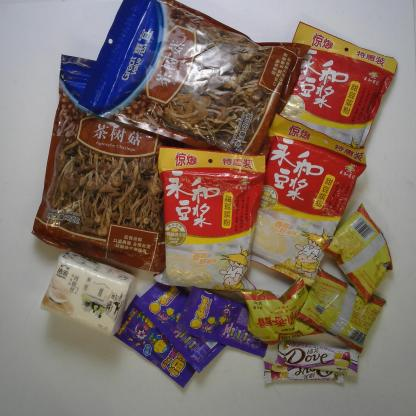Candy: (134, 275, 230, 374), (112, 292, 203, 388), (174, 284, 269, 358)
Chocolate: (274, 338, 358, 376), (263, 354, 345, 385)
Dried Food: (76, 0, 312, 163), (30, 53, 189, 276)
Instant Drink: (239, 112, 367, 288), (266, 20, 398, 174), (154, 145, 266, 293)
Seasoner: (296, 266, 387, 354), (324, 201, 394, 306), (241, 275, 326, 346)
Tissue: (39, 250, 136, 336)
